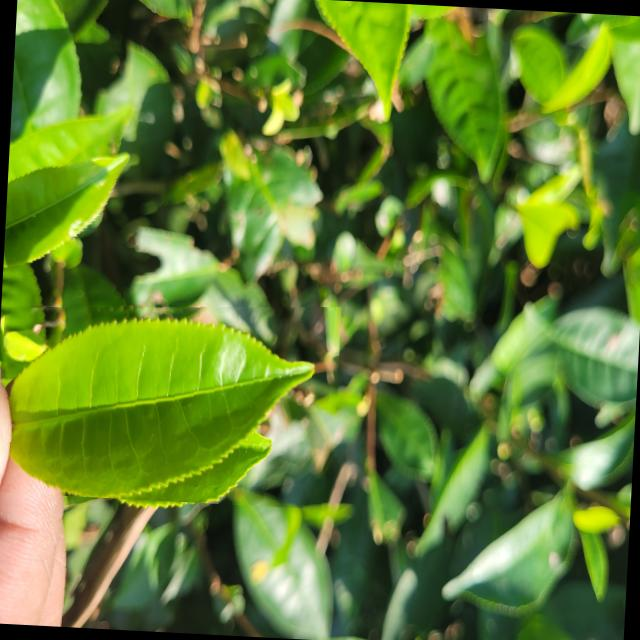Catagory A(1-2 days): (0, 289, 340, 510)
